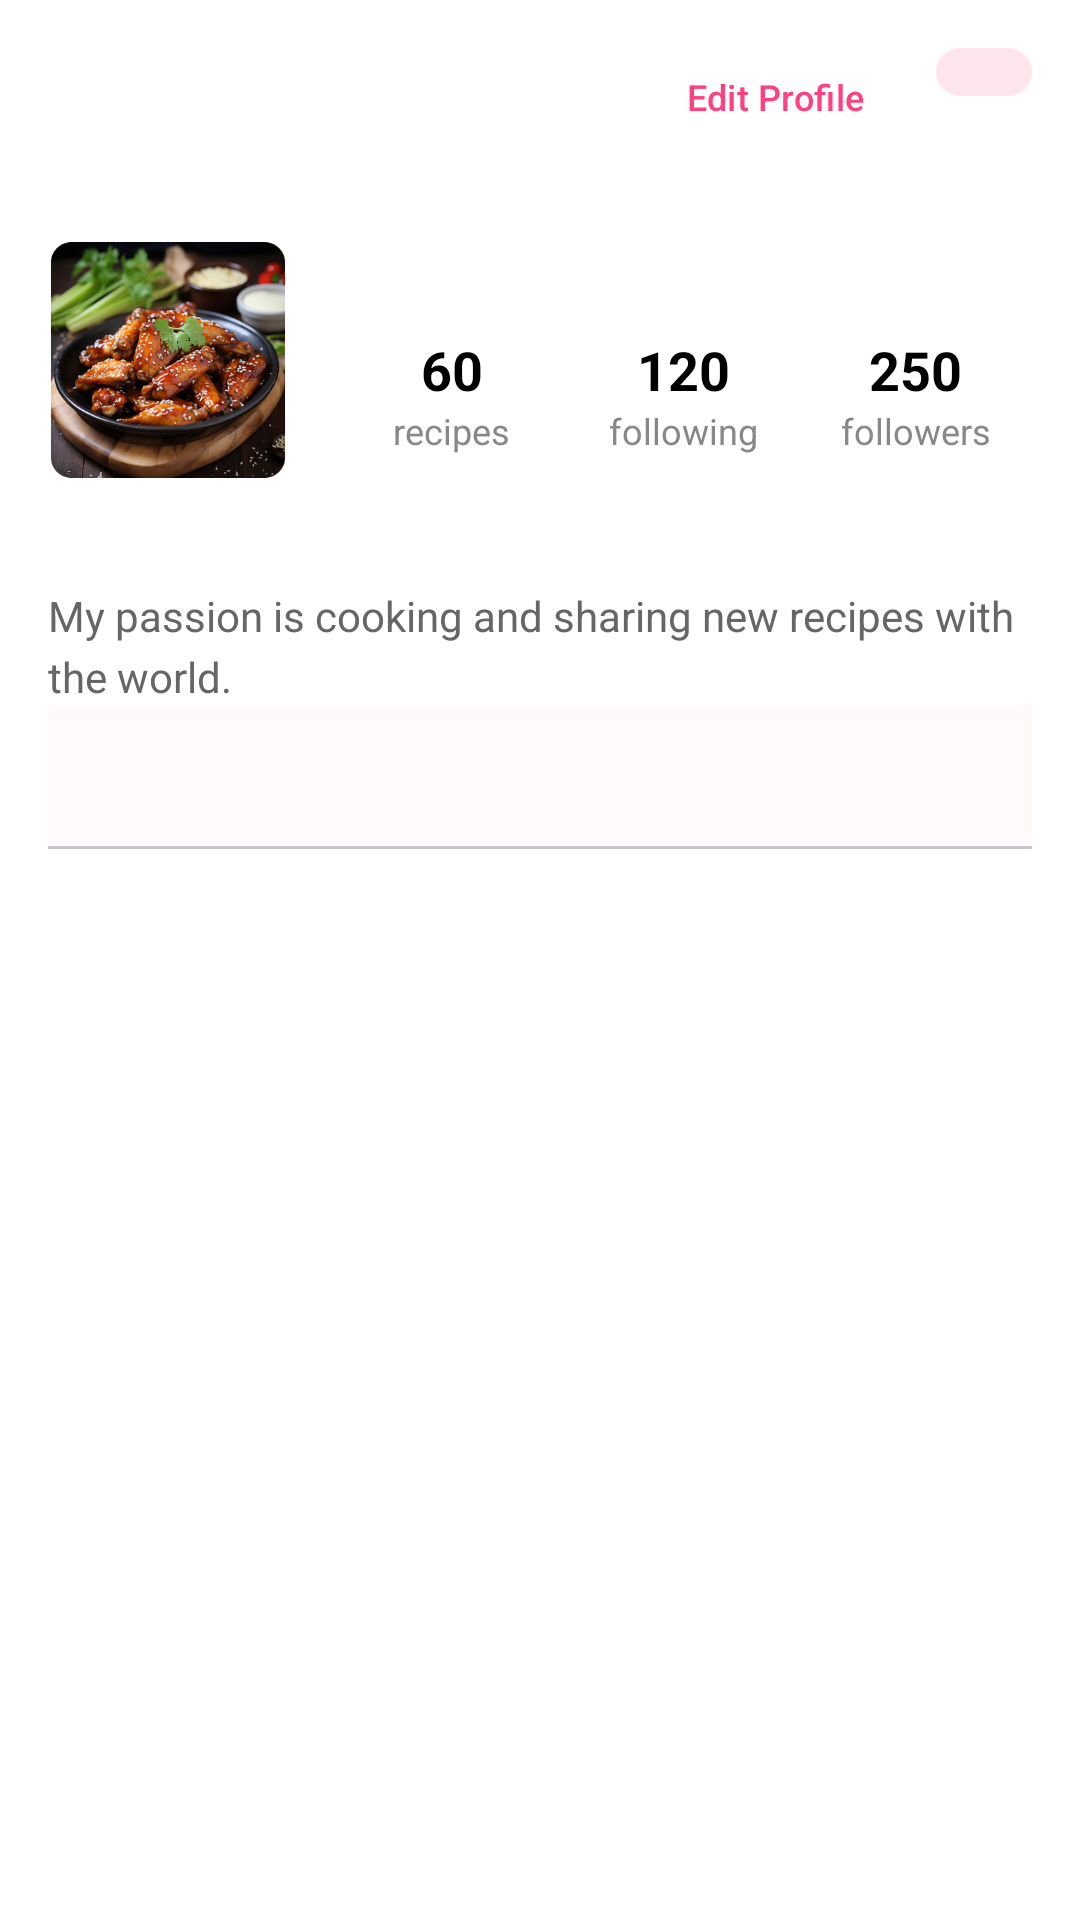

Where icons sit on this 1080 × 1920 app screen, as (x1, y1, x2, y2):
chicken teriyaki: (51, 242, 285, 478)
